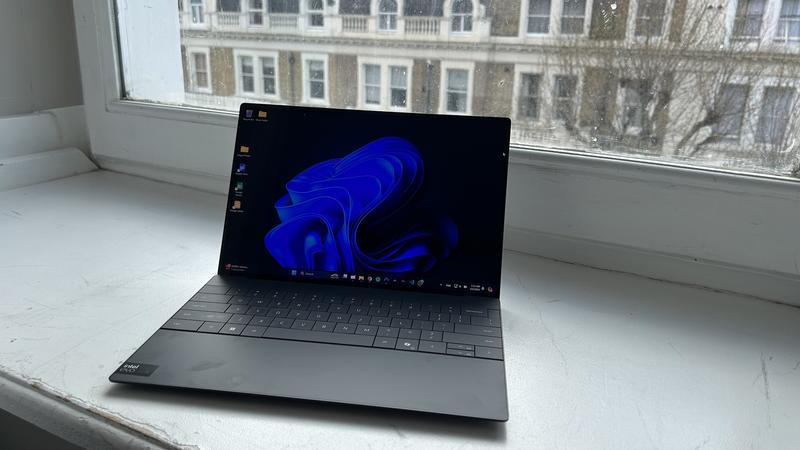laptop: (107, 98, 528, 430)
